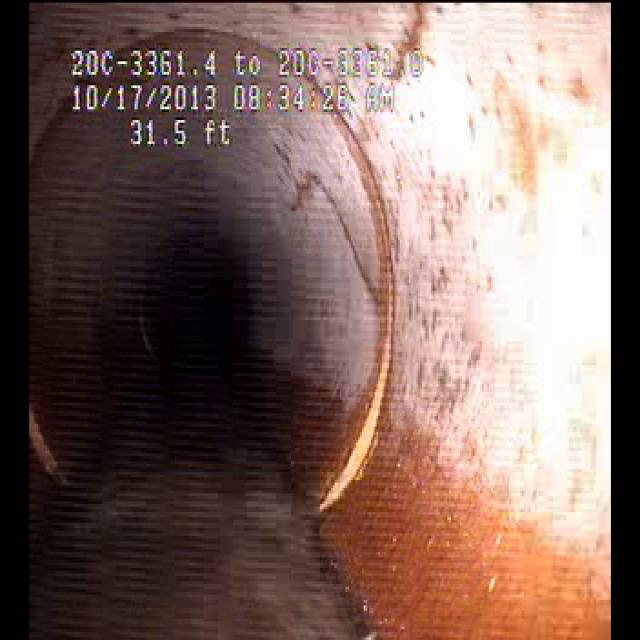Crack: (271, 134, 394, 333)
